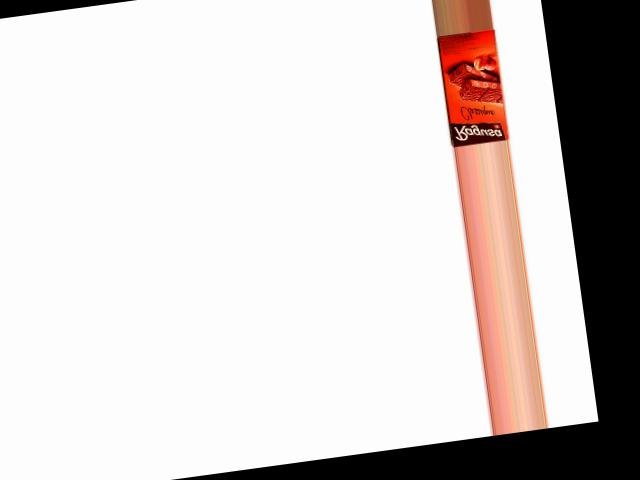chocolate: (433, 27, 515, 146)
